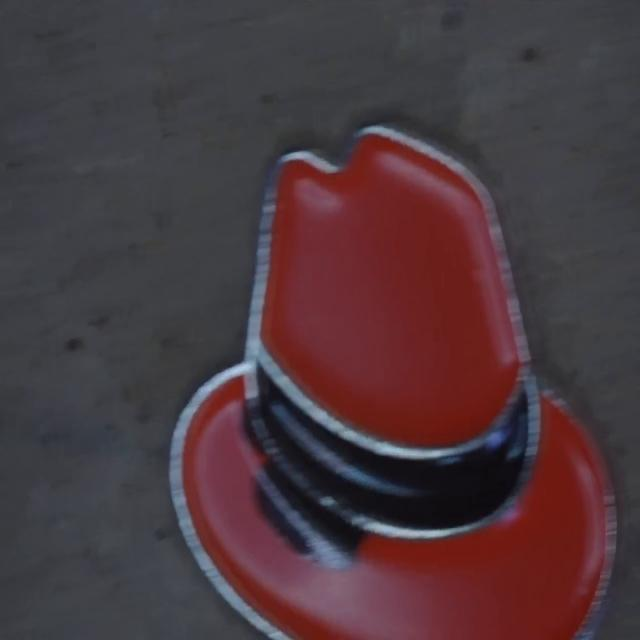Hatband: (248, 364, 529, 536)
Paint_Leak: (256, 453, 359, 570)
RedHatPin: (171, 129, 615, 637)
